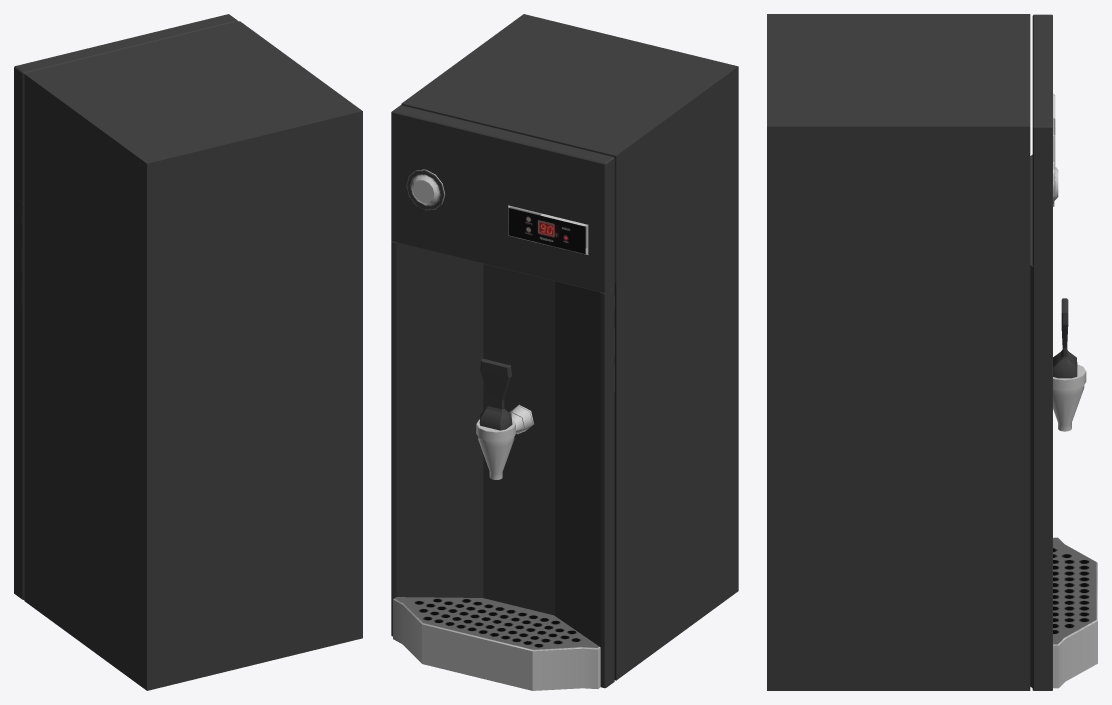
Rendered from LC_3072_Waterheater_LOD2.fbx.
The picture shows the model from 3 angles, left to right: view 1: azimuth 30°, elevation 25°; view 2: azimuth 150°, elevation 25°; view 3: azimuth 270°, elevation 25°; orthographic projection. The views are drawn at different scales.
Parts seen in each view (by area): view 1: LC_3072_Waterheater_LOD2; view 2: LC_3072_Waterheater_LOD2; view 3: LC_3072_Waterheater_LOD2.
Boxes of the visible parts, x1=… form: LC_3072_Waterheater_LOD2: x1=14, y1=14, x2=362, y2=690; LC_3072_Waterheater_LOD2: x1=391, y1=14, x2=738, y2=690; LC_3072_Waterheater_LOD2: x1=767, y1=14, x2=1097, y2=690.
Bounding box in the file's own units: 22.1 × 51.6 × 27.41.
1 material, 1 textured.
